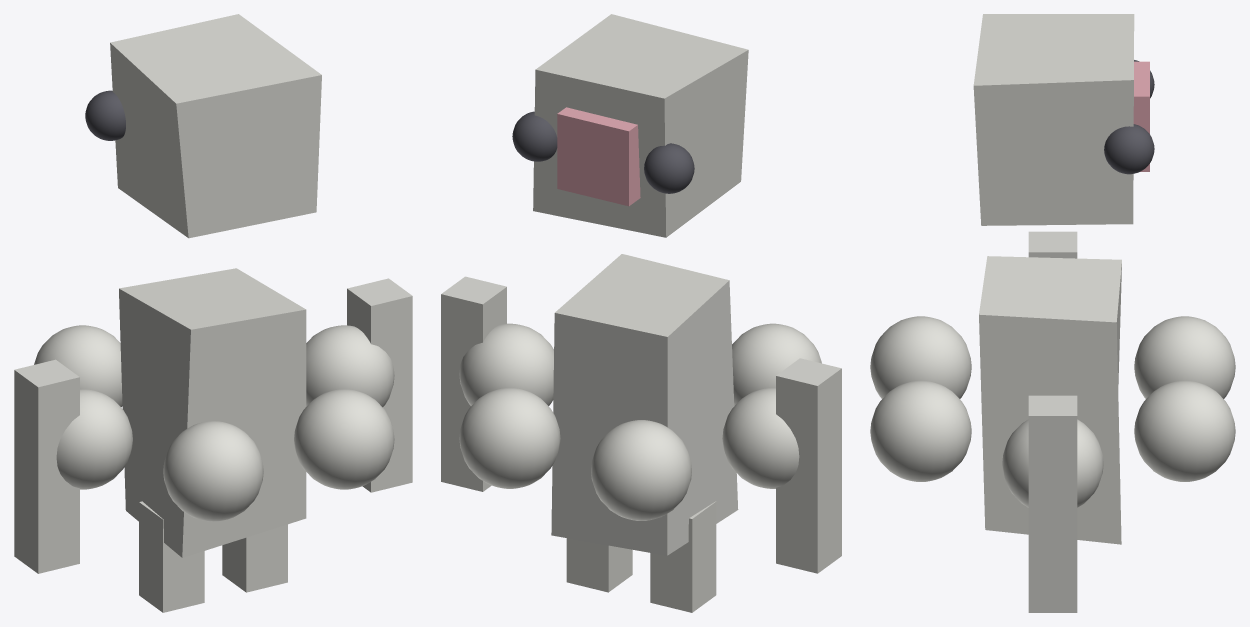
File: clay_blocky_sheep_wool.glb
3 renders of one model, left to right at view 1: azimuth 30°, elevation 25°; view 2: azimuth 150°, elevation 25°; view 3: azimuth 270°, elevation 25°, orthographic.
Parts seen in each view (by area): view 1: face; view 2: face; view 3: face.
Part boxes in pixels (left/top/right/bottom): face: left=14, top=14, right=412, bottom=612; face: left=441, top=14, right=841, bottom=612; face: left=870, top=14, right=1235, bottom=612.
Size of the model in its own units: 1.89 by 2.57 by 1.58.
